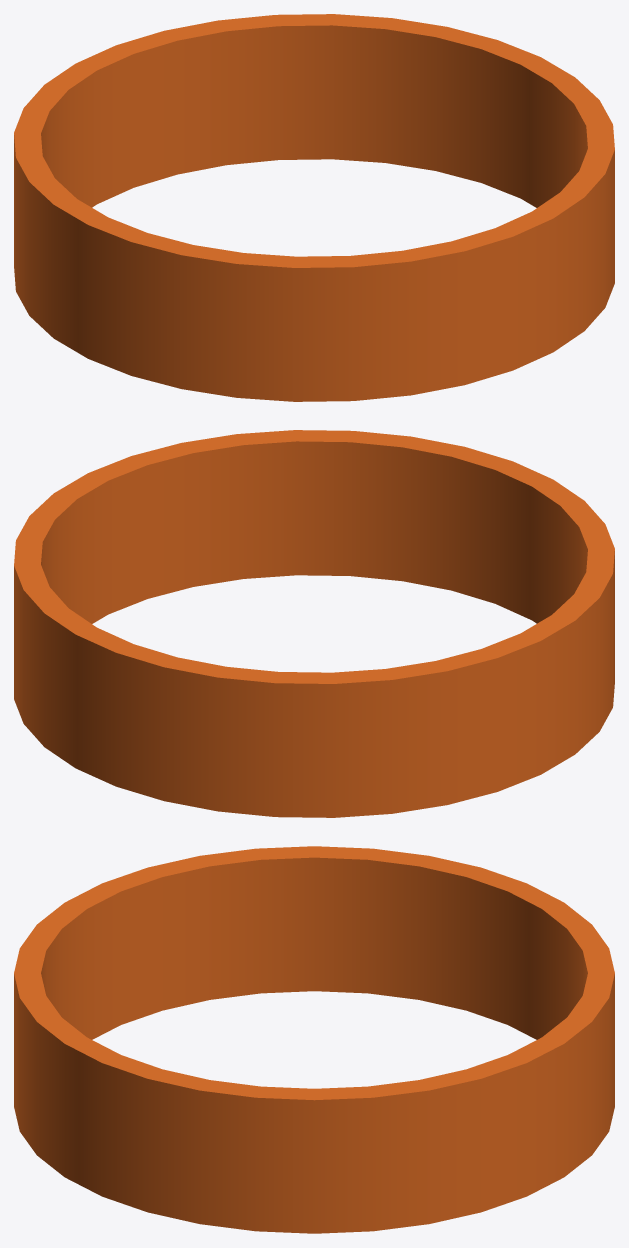
The model's file is silindir.fbx.
3 views of the same model, one above another, from view 1: azimuth 30°, elevation 25°; view 2: azimuth 150°, elevation 25°; view 3: azimuth 270°, elevation 25° (orthographic).
Visible parts, largest first — view 1: Cylinder; view 2: Cylinder; view 3: Cylinder.
Part boxes in pixels (x1,y1,x2,y2): Cylinder: (14, 14, 614, 401); Cylinder: (14, 430, 614, 817); Cylinder: (14, 846, 614, 1233).
Bounding box in the file's own units: 668 × 164 × 668.
